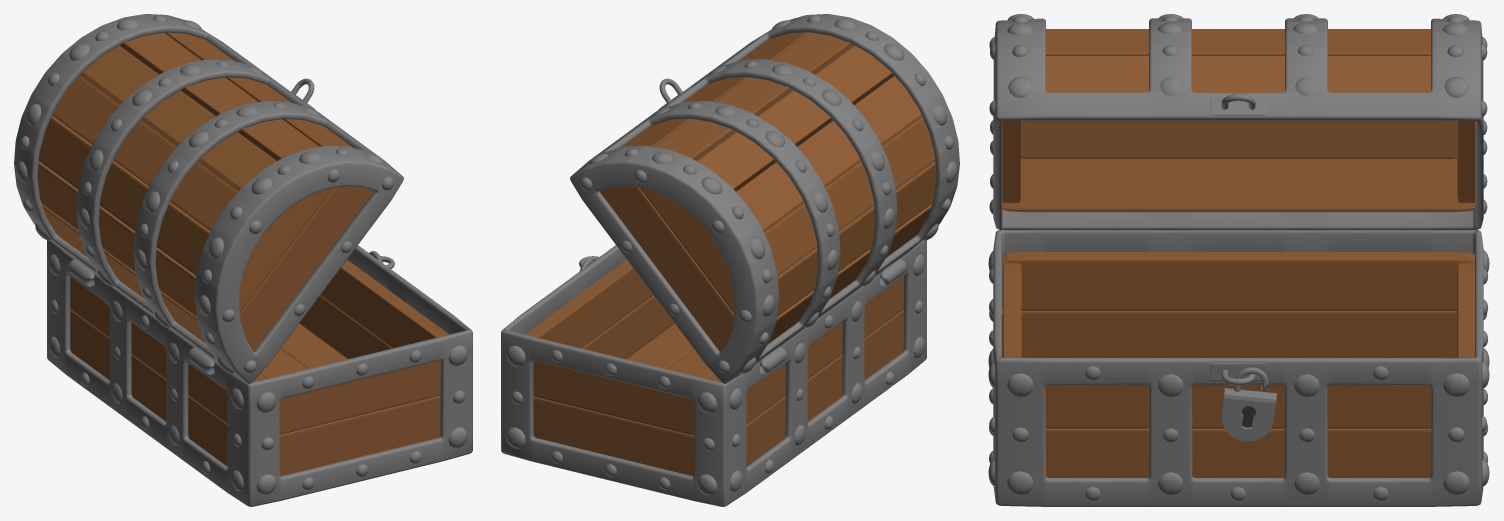
File: Tesouro com textura.fbx
3 renders of one model, left to right at view 1: azimuth 30°, elevation 25°; view 2: azimuth 150°, elevation 25°; view 3: azimuth 270°, elevation 25°, orthographic. The views are drawn at different scales.
Visible parts, largest first — view 1: Tampa, Parte de baixo; view 2: Tampa, Parte de baixo; view 3: Parte de baixo, Tampa.
Boxes of the visible parts, x1,y1,x2,y2 form: Tampa: (14,14,403,383); Parte de baixo: (47,240,472,506); Tampa: (570,14,959,383); Parte de baixo: (501,240,926,506); Parte de baixo: (988,230,1489,506); Tampa: (989,14,1487,230).
Size of the model in its own units: 262 by 293 by 337.
